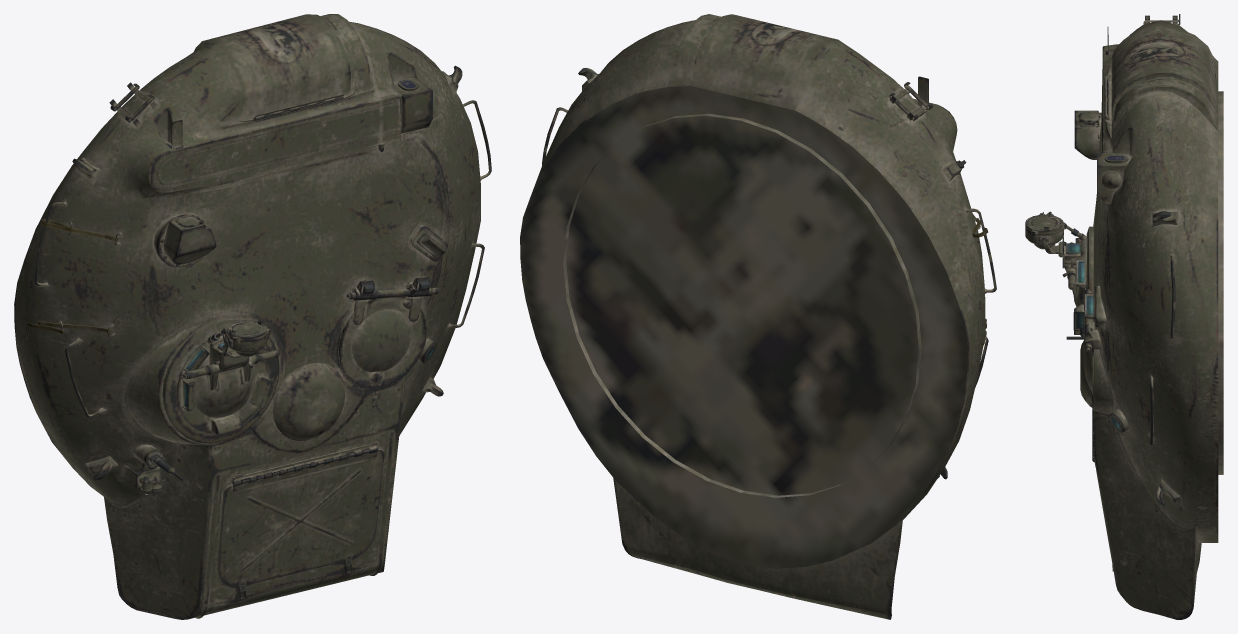
File: Turret_01.glb
The picture shows the model from 3 angles, left to right: view 1: azimuth 30°, elevation 25°; view 2: azimuth 150°, elevation 25°; view 3: azimuth 270°, elevation 25°; orthographic projection. The views are drawn at different scales.
Visible parts, largest first — view 1: set_0_group_0; view 2: set_0_group_0; view 3: set_0_group_0.
Boxes of the visible parts, <box> form: set_0_group_0: <box>14,14,491,619</box>; set_0_group_0: <box>520,14,996,619</box>; set_0_group_0: <box>1025,14,1223,619</box>.
Bounding box in the file's own units: 3.02 × 3.51 × 1.22.
1 material, 1 textured.
